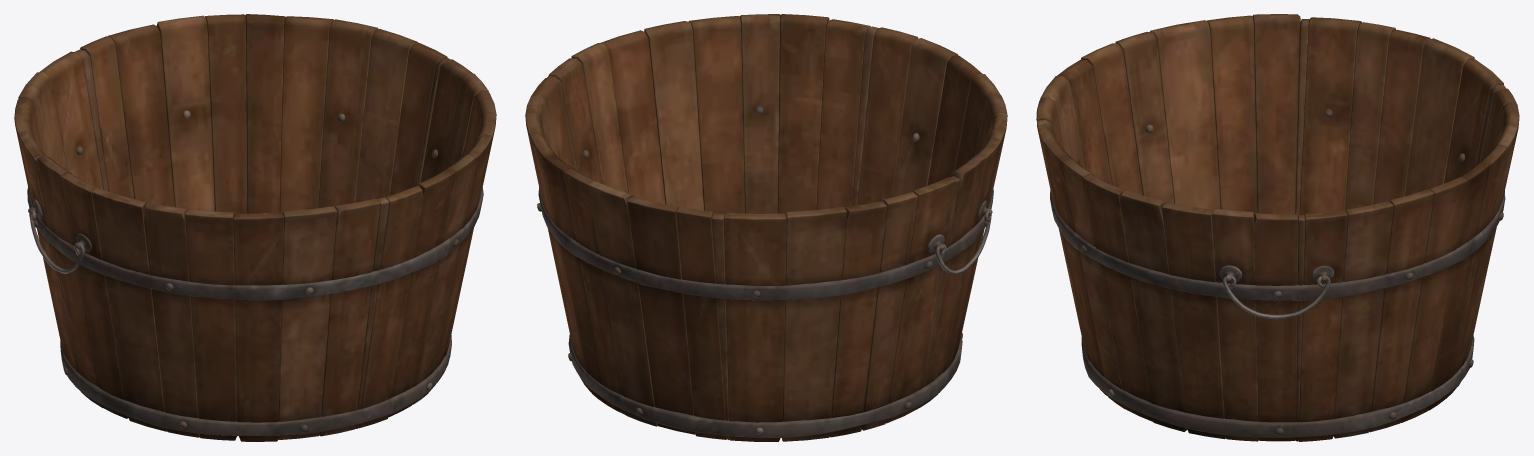
Rendered from wooden_bucket_02.glb.
3 renders of one model, left to right at view 1: azimuth 30°, elevation 25°; view 2: azimuth 150°, elevation 25°; view 3: azimuth 270°, elevation 25°, orthographic.
Parts seen in each view (by area): view 1: wooden_bucket_02; view 2: wooden_bucket_02; view 3: wooden_bucket_02.
Part boxes in pixels (<box>): wooden_bucket_02: <box>14,14,496,441</box>; wooden_bucket_02: <box>525,14,1007,441</box>; wooden_bucket_02: <box>1036,14,1519,441</box>.
Bounding box in the file's own units: 0.6153 × 0.3504 × 0.6163.
1 material, 1 textured.
